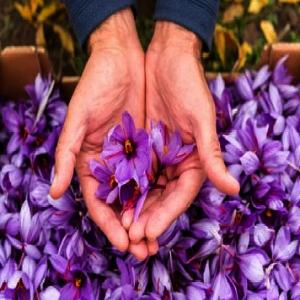Saffron: (102, 113, 152, 177), (153, 120, 194, 176)
